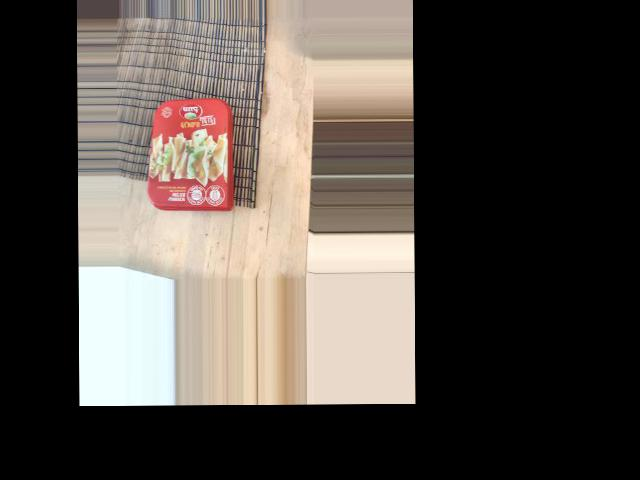cheese: (92, 46, 240, 127)
